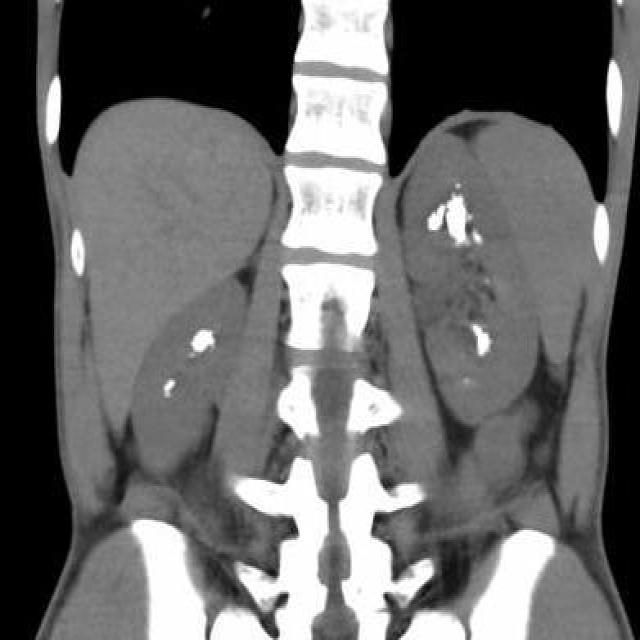Tas_Var: (445, 193, 470, 251), (187, 323, 222, 353), (422, 203, 446, 235), (472, 331, 494, 359), (470, 226, 486, 250), (162, 377, 178, 391), (186, 349, 199, 363), (460, 373, 473, 387), (471, 323, 484, 337), (482, 276, 494, 290), (452, 181, 465, 191), (466, 210, 474, 222), (163, 392, 173, 398)
